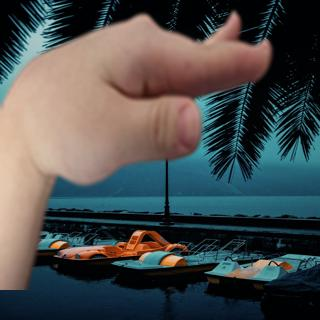Wait: (0, 8, 277, 188)
